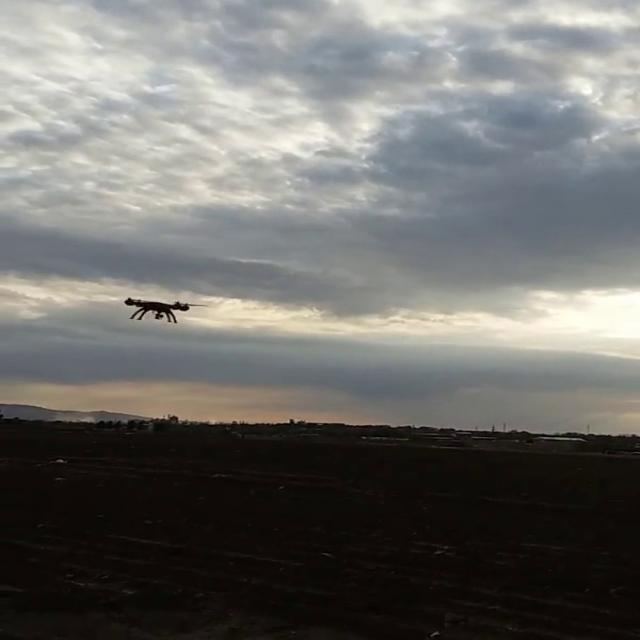drone: (114, 296, 203, 324)
